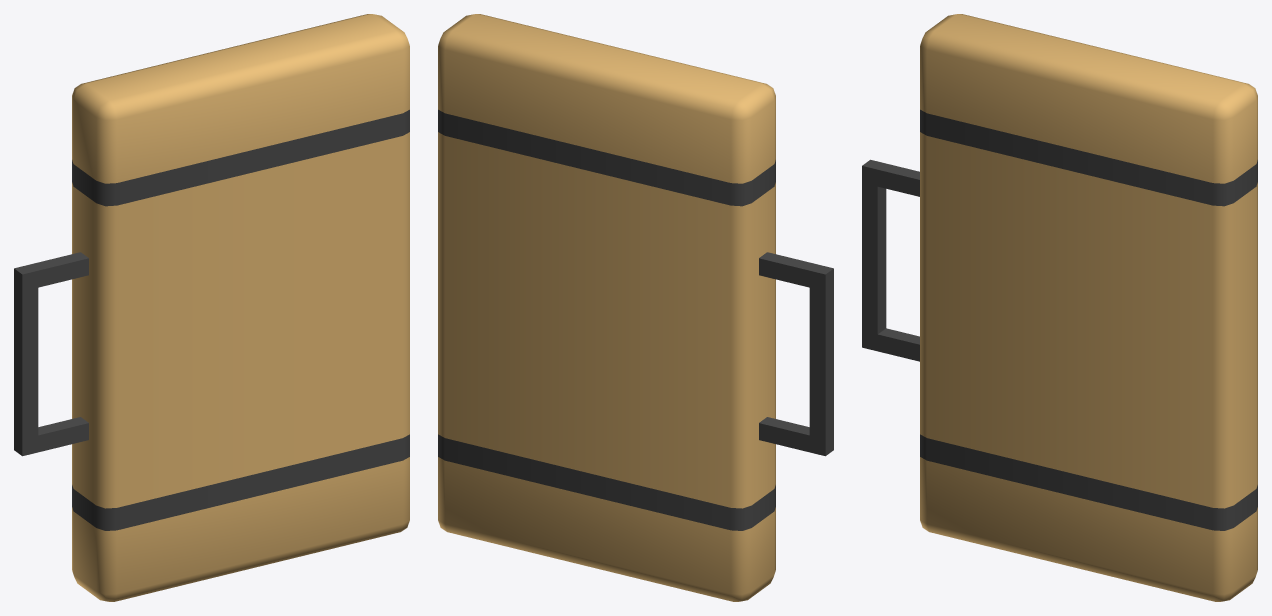
The model's file is briefcase.fbx.
3 views of the same model, side by side, from view 1: azimuth 30°, elevation 25°; view 2: azimuth 150°, elevation 25°; view 3: azimuth 330°, elevation 25° (orthographic).
Parts seen in each view (by area): view 1: briefcase; view 2: briefcase; view 3: briefcase.
Boxes of the visible parts, bbox=[...] form: briefcase: bbox=[14, 14, 409, 601]; briefcase: bbox=[438, 14, 833, 601]; briefcase: bbox=[862, 14, 1257, 601].
Size of the model in its own units: 63.25 by 80 by 10.97.
